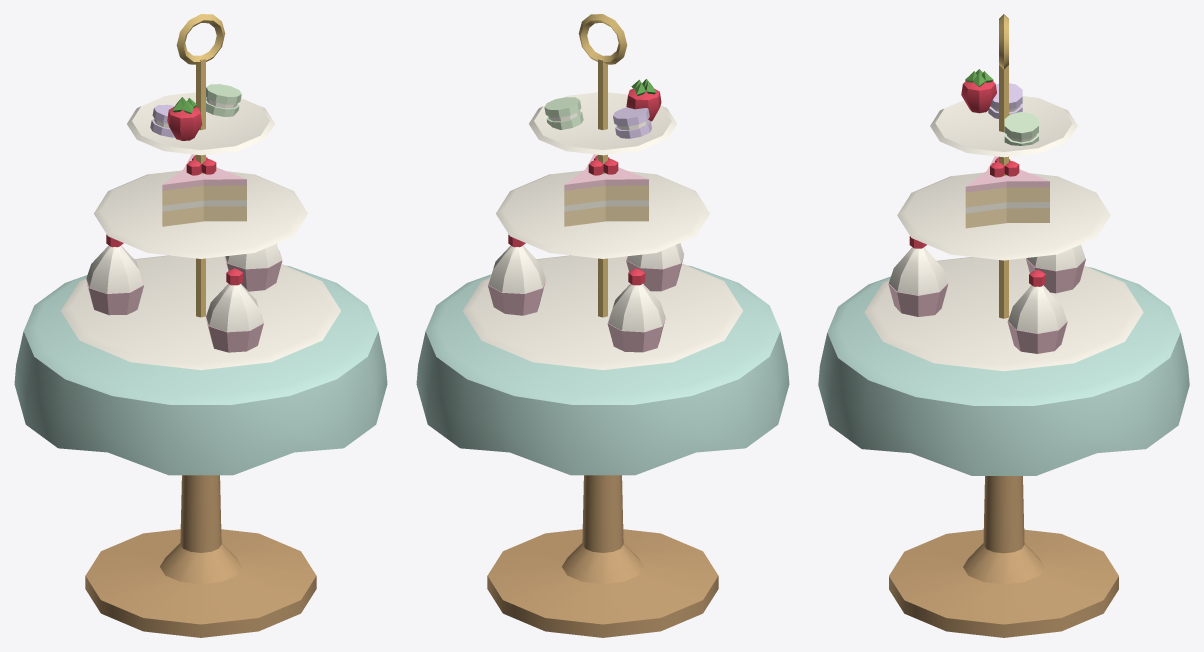
File: furn_cake_stand.glb
3 views of the same model, side by side, from view 1: azimuth 30°, elevation 25°; view 2: azimuth 150°, elevation 25°; view 3: azimuth 270°, elevation 25° (orthographic).
Visible parts, largest first — view 1: furn_cake_stand_body; view 2: furn_cake_stand_body; view 3: furn_cake_stand_body.
Boxes of the visible parts, bbox=[...] form: furn_cake_stand_body: bbox=[14, 14, 387, 637]; furn_cake_stand_body: bbox=[416, 14, 789, 637]; furn_cake_stand_body: bbox=[818, 14, 1189, 637].
Bounding box in the file's own units: 0.4451 × 0.769 × 0.452.
